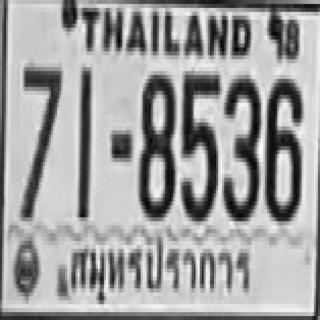N01: (76, 65, 91, 215)
N03: (222, 71, 259, 217)
N05: (179, 71, 218, 217)
N06: (263, 75, 302, 221)
N07: (19, 63, 60, 217)
N08: (137, 71, 173, 217)
P57: (66, 236, 254, 310)
